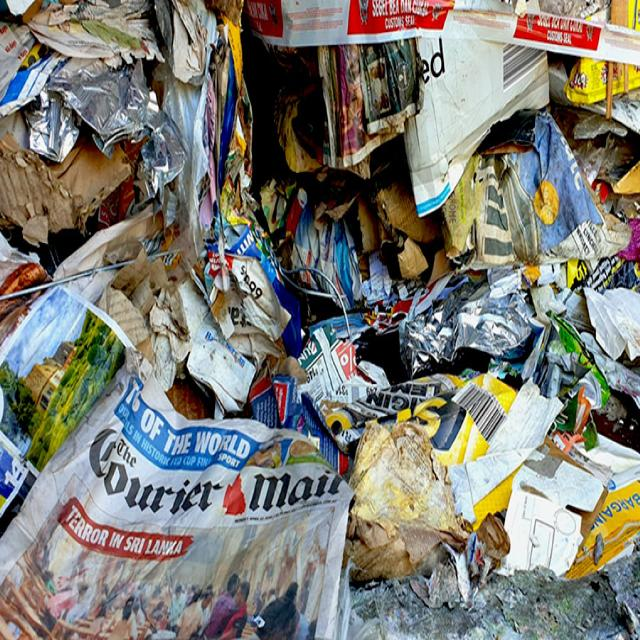Kertas: (16, 13, 606, 640)
